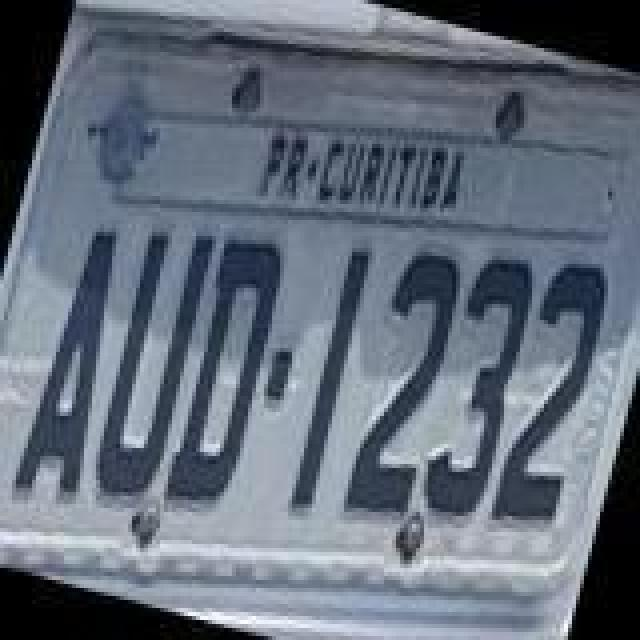1: (276, 246, 380, 522)
2: (336, 240, 480, 528), (480, 252, 624, 540)
3: (410, 246, 550, 530)
A: (8, 226, 144, 510)
D: (152, 228, 296, 524)
U: (80, 216, 224, 504)
